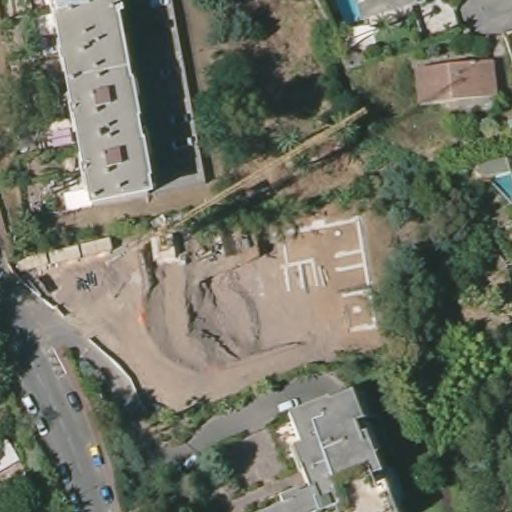pool: (333, 1, 360, 27), (493, 171, 512, 202)
